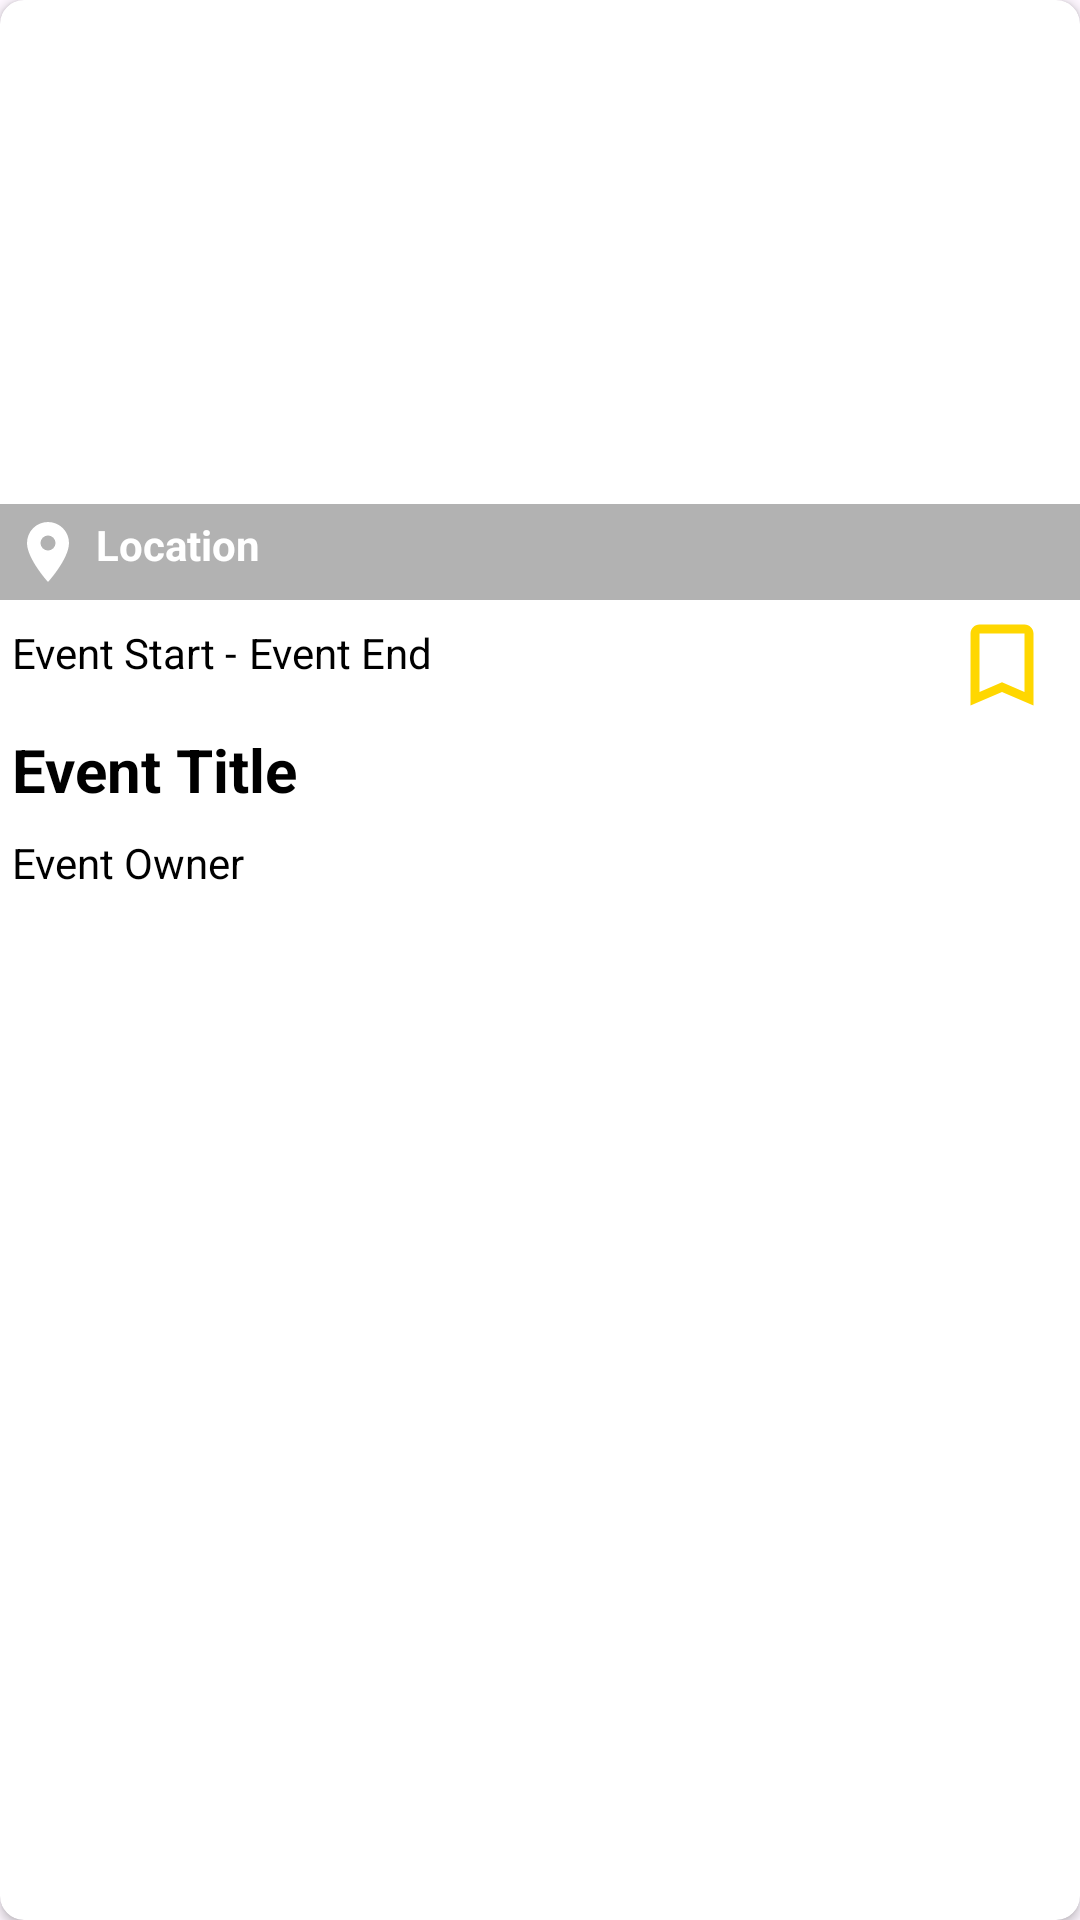

Point at icon controls on the screen. Image size 1080 × 1920, points as (x,y).
Bookmark Icon: (1002,665)
